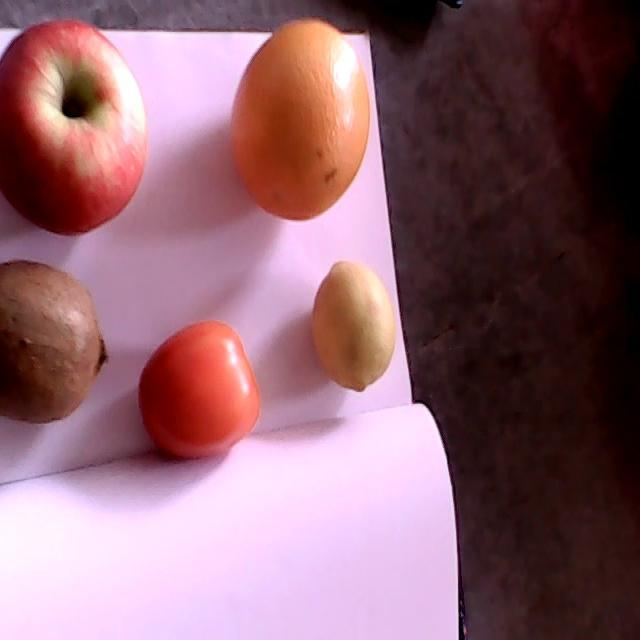apple: (0, 20, 147, 236)
kiwi: (0, 262, 109, 423)
lemon: (312, 262, 397, 391)
orange: (231, 19, 371, 219)
tomato: (137, 320, 261, 460)
